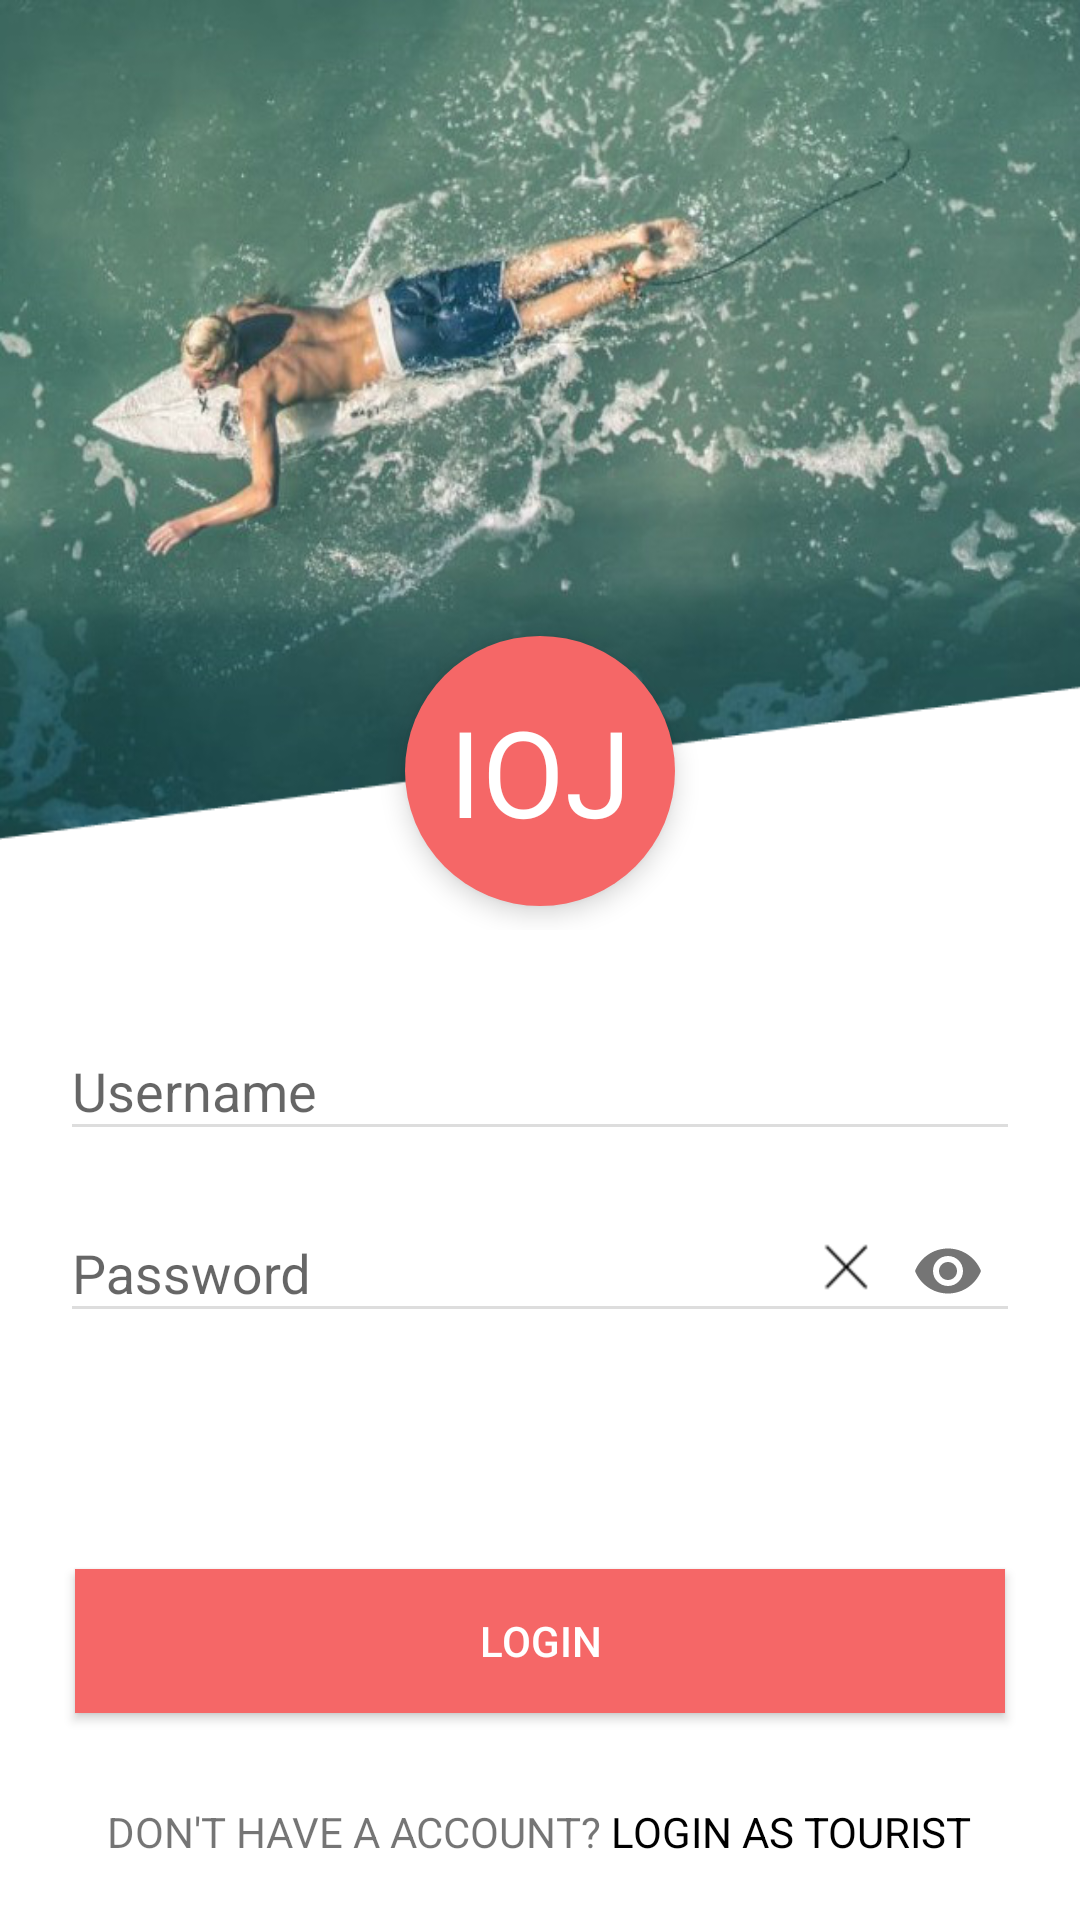

Icons on this 1080px x 1920px Android screen, each with its box as region(x1, y1, x2, y2):
clear: region(825, 1244, 868, 1290)
